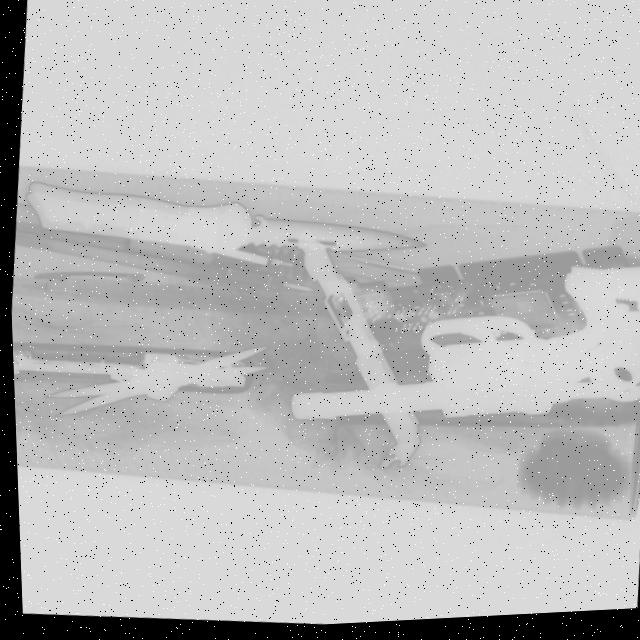knife: (14, 160, 434, 284)
pistol: (279, 239, 640, 454)
